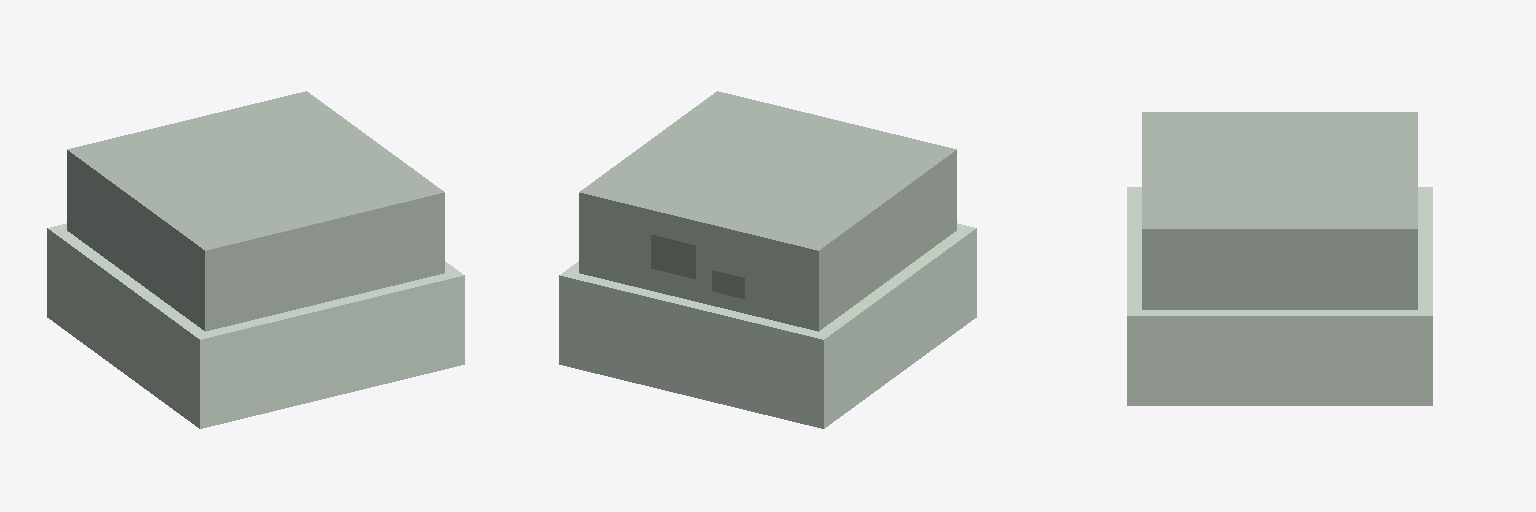
File: towerDefense_048.obj
3 views of the same model, side by side, from view 1: azimuth 30°, elevation 25°; view 2: azimuth 150°, elevation 25°; view 3: azimuth 270°, elevation 25° (orthographic).
Parts seen in each view (by area): view 1: Mesh1 Group1 Model; view 2: Mesh1 Group1 Model; view 3: Mesh1 Group1 Model.
Part boxes in pixels (bbox=[...]): Mesh1 Group1 Model: bbox=[47, 91, 464, 428]; Mesh1 Group1 Model: bbox=[559, 91, 976, 428]; Mesh1 Group1 Model: bbox=[1127, 112, 1432, 405].
Bounding box in the file's own units: 0.651 × 0.4 × 0.651.